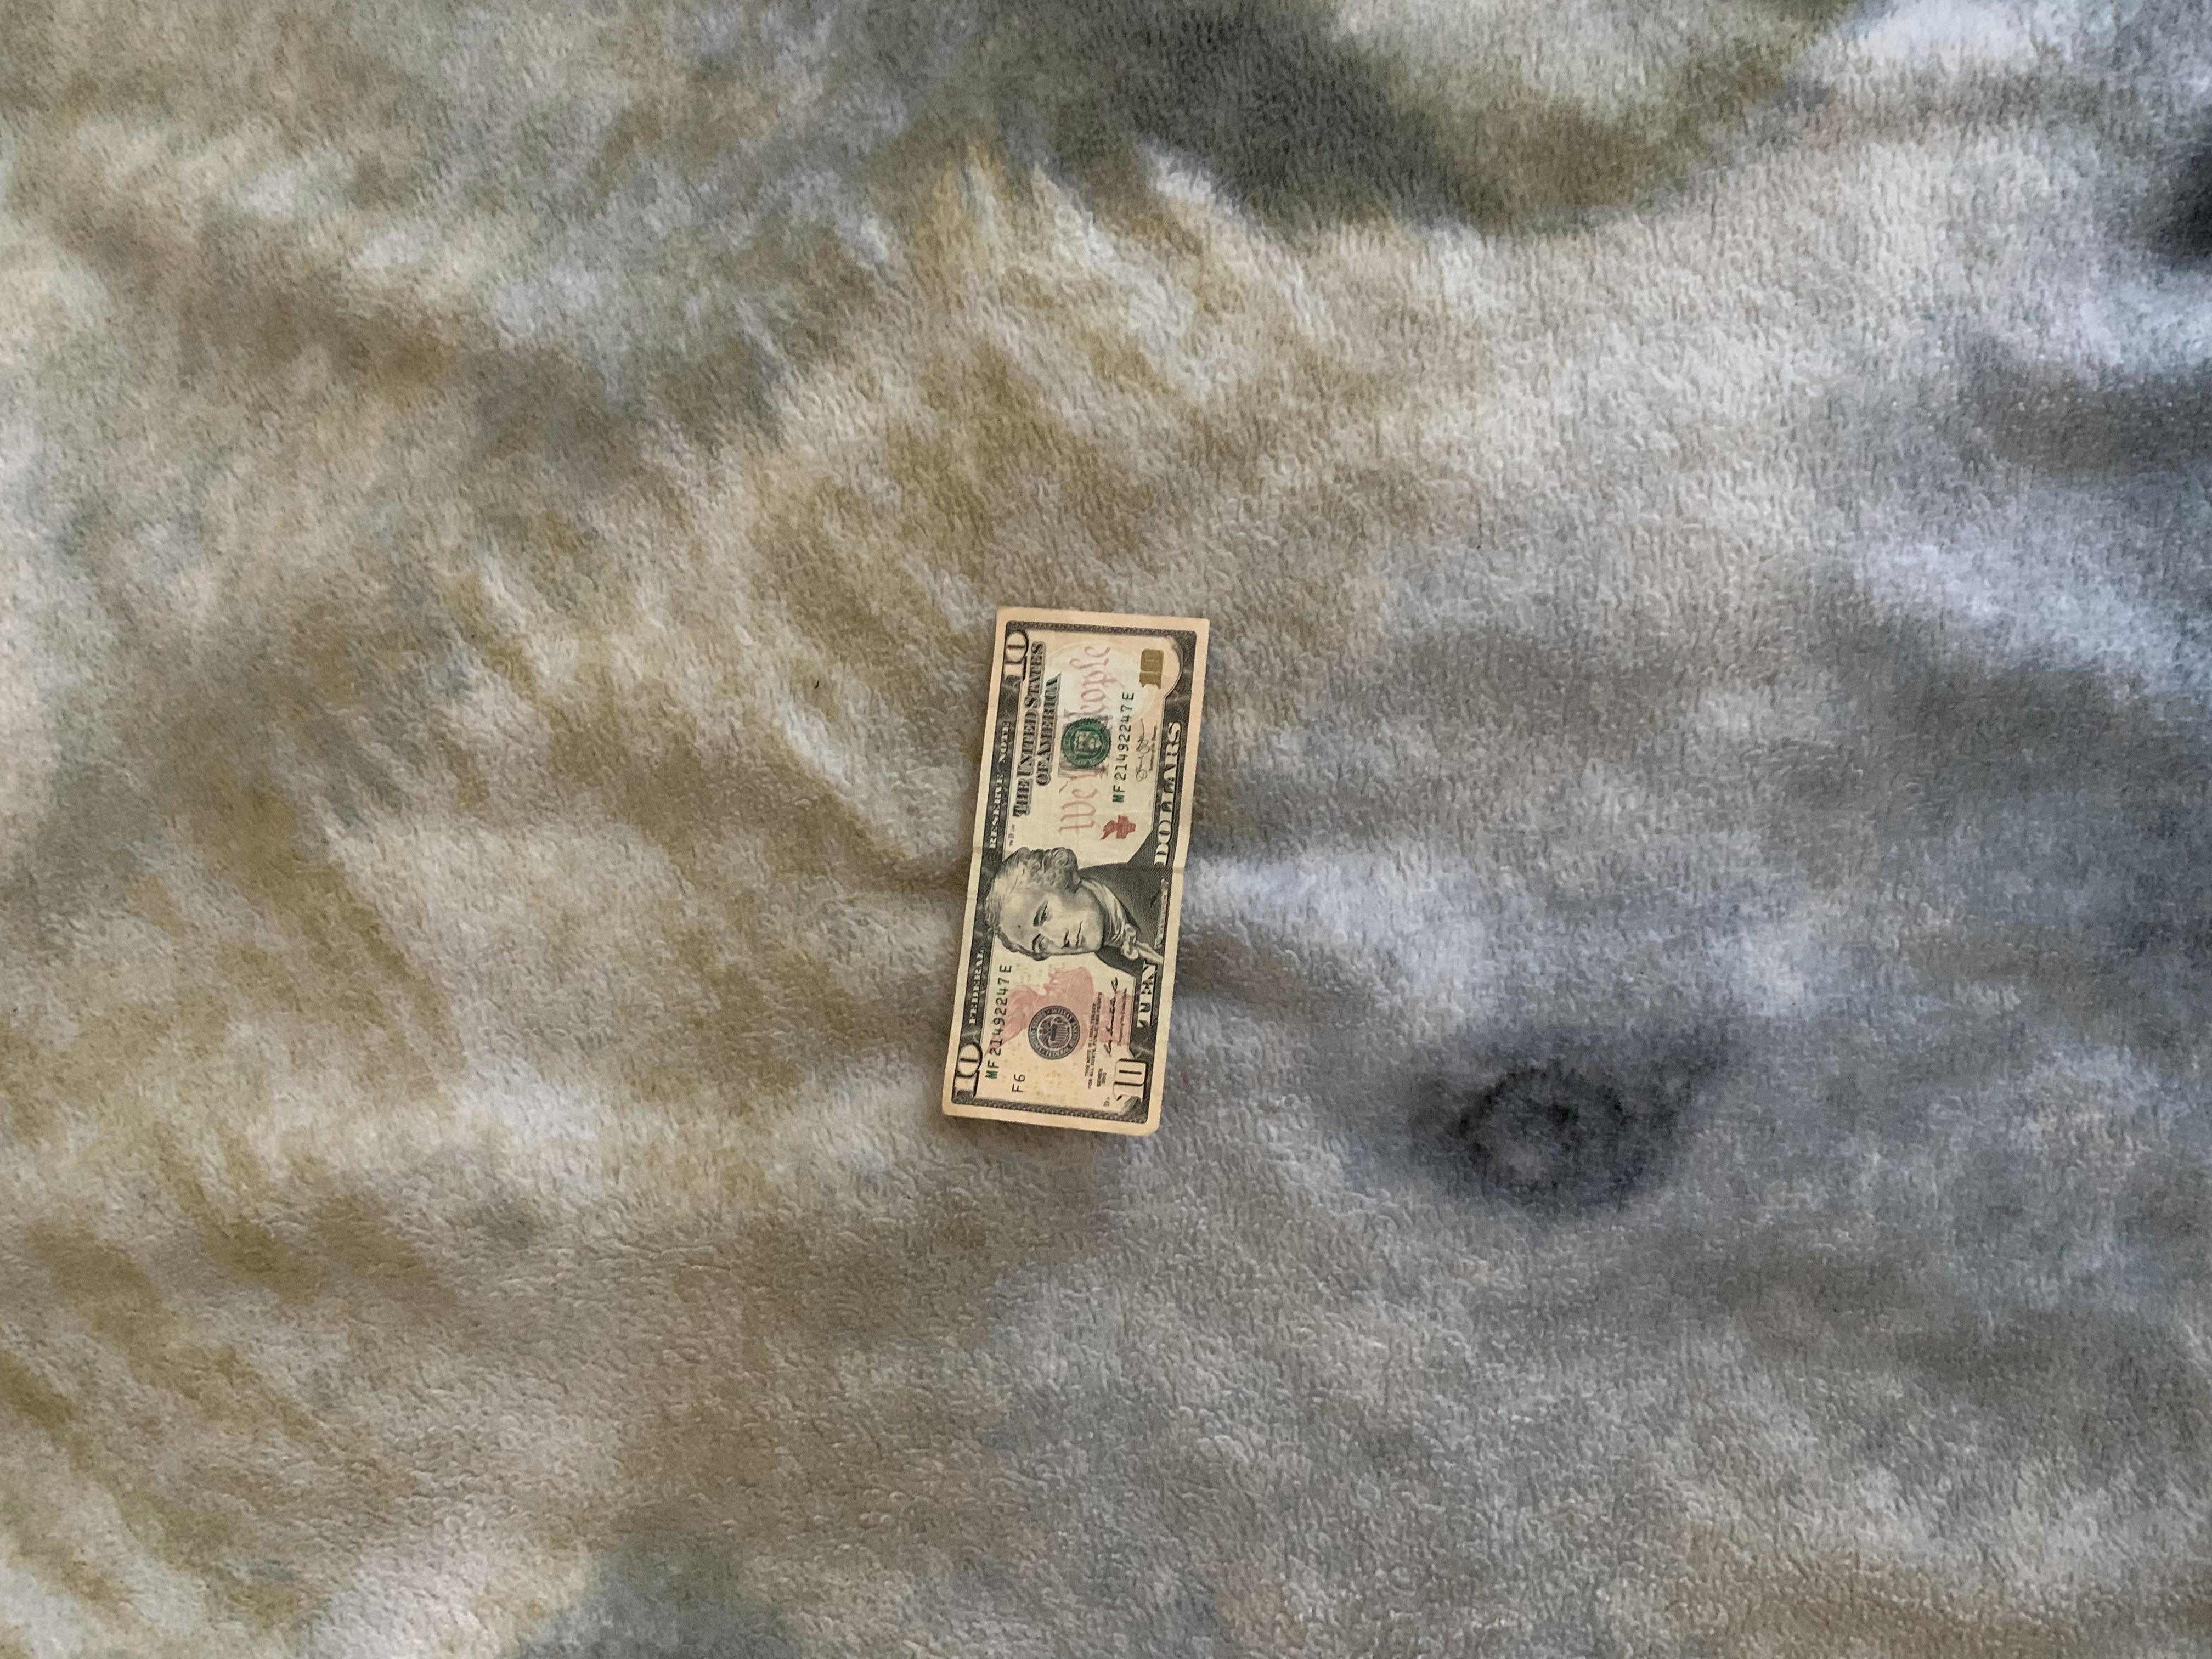TenBill: (932, 603, 1217, 1140)
